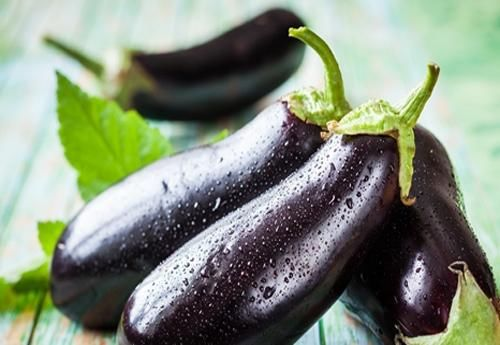fruit_eggplant: (50, 27, 460, 345)
